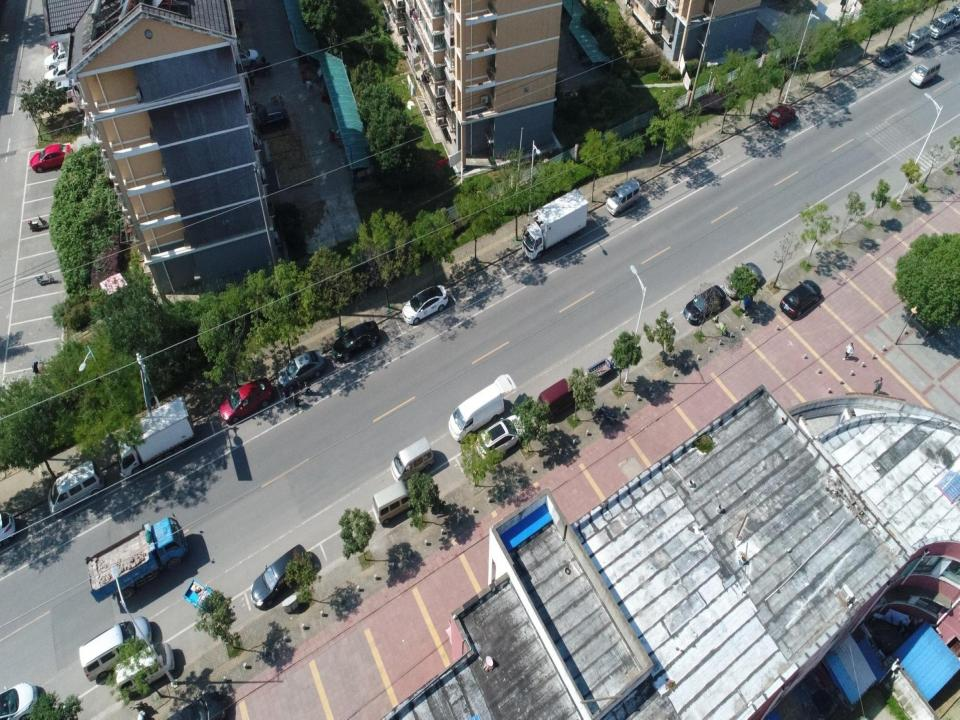car: (250, 543, 314, 608), (473, 412, 526, 464), (220, 376, 273, 424), (276, 348, 324, 392), (332, 321, 380, 364), (402, 282, 449, 324), (166, 691, 236, 719), (682, 284, 728, 326), (778, 279, 824, 321), (724, 261, 764, 300), (1, 682, 41, 719), (30, 143, 73, 172), (251, 103, 291, 132), (765, 100, 799, 132), (876, 41, 906, 69), (234, 47, 261, 71), (44, 49, 70, 71), (44, 61, 69, 79), (50, 80, 75, 92)
truck: (86, 514, 187, 600), (117, 394, 194, 480), (521, 187, 589, 260)
van: (448, 374, 518, 444), (79, 615, 152, 677), (47, 460, 104, 518), (115, 641, 175, 695), (390, 436, 435, 482), (372, 480, 412, 525), (606, 177, 641, 217), (535, 378, 571, 416), (909, 56, 943, 89), (902, 25, 932, 54), (929, 10, 958, 40)
